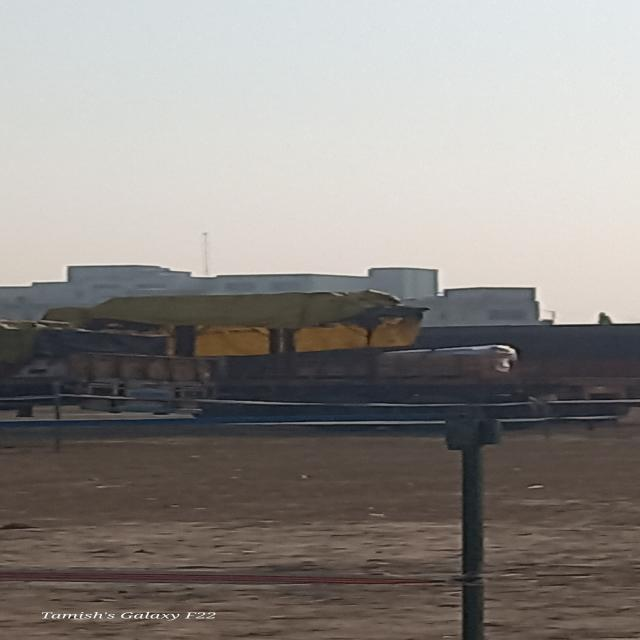covered: (56, 285, 423, 357)
